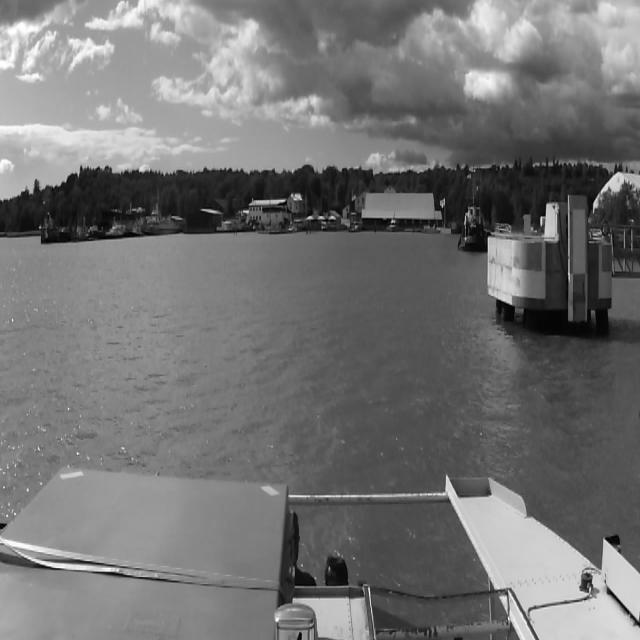ship: (455, 166, 487, 254), (421, 193, 443, 236), (388, 212, 398, 234)
